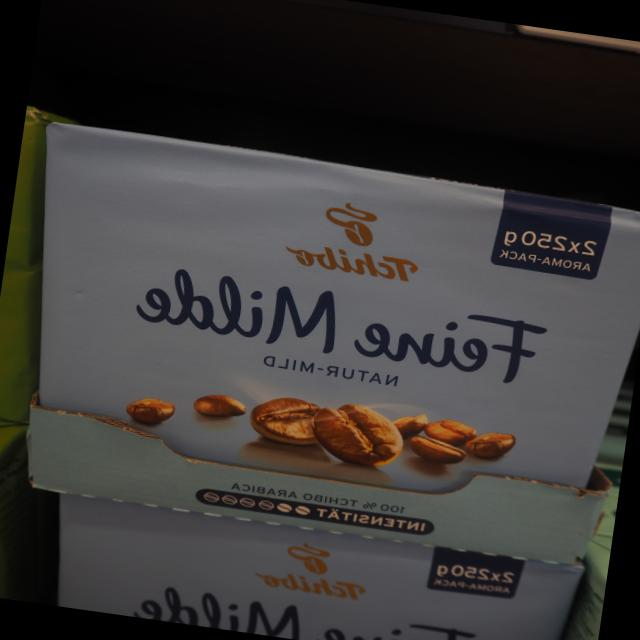FM Gemahlen: (31, 119, 640, 567)
